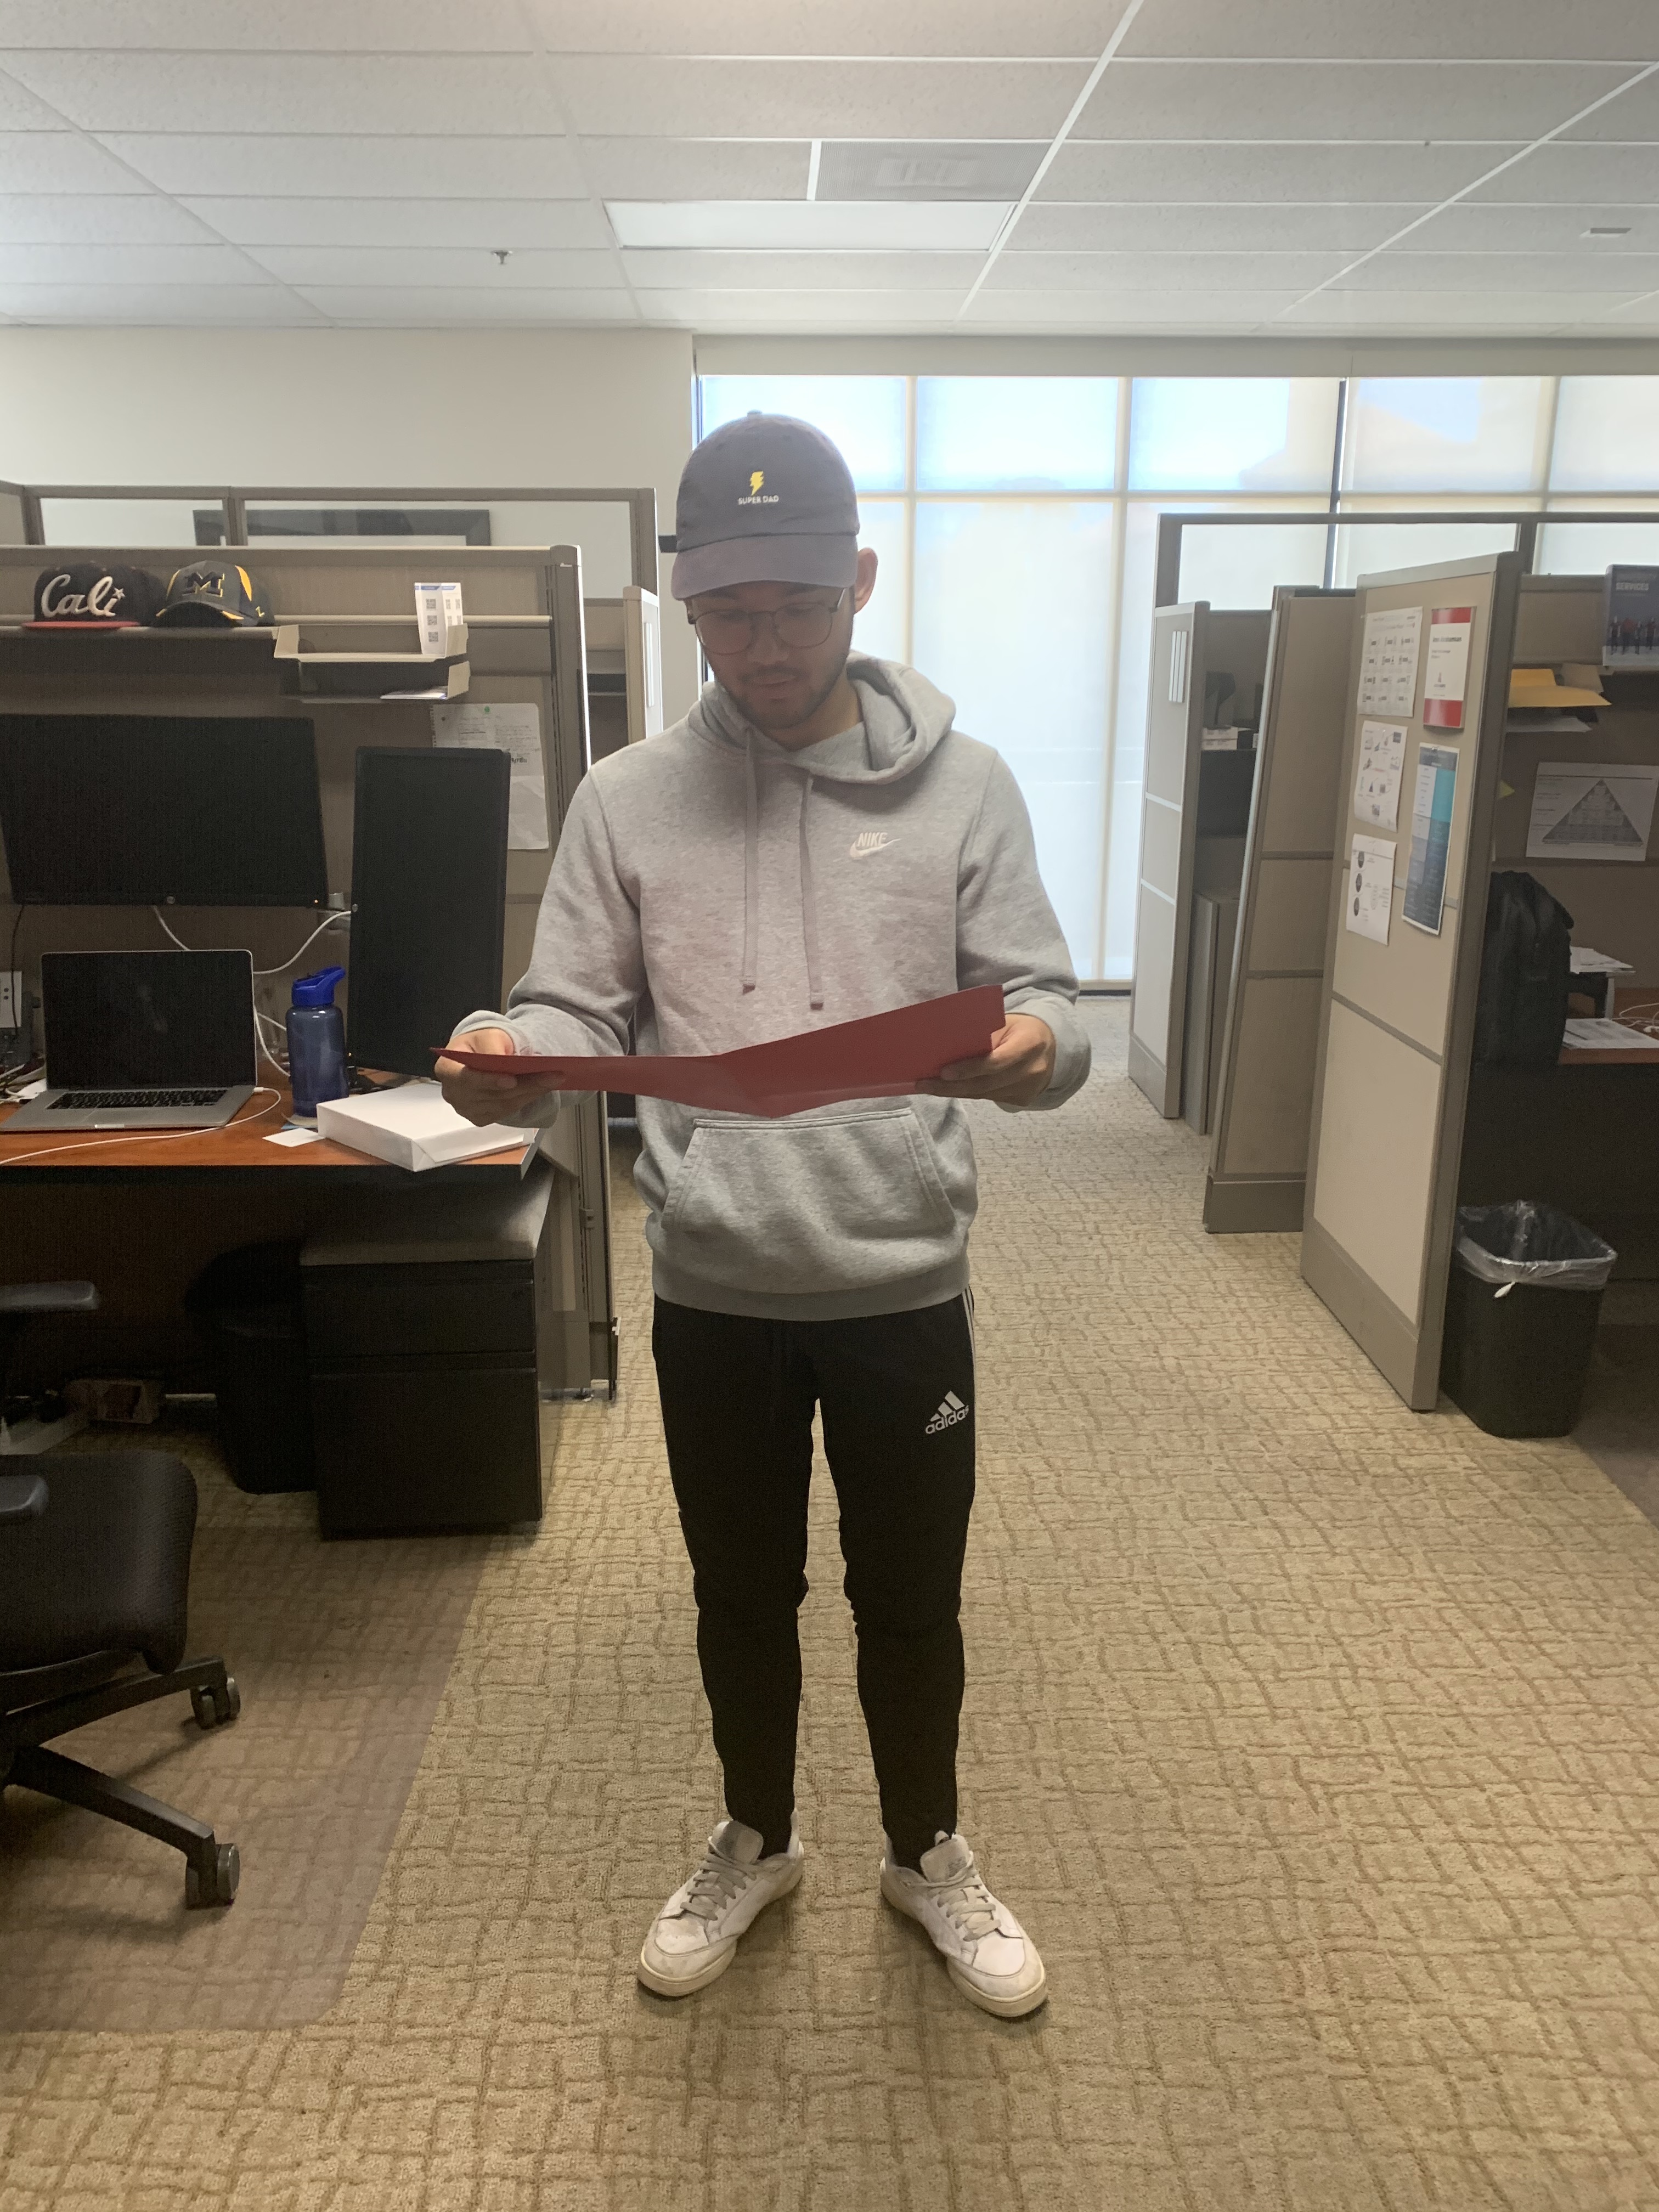red folder: (396, 979, 1040, 1129)
